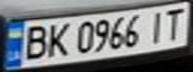0: (75, 18, 96, 55)
6: (121, 11, 148, 48), (109, 15, 130, 52)
9: (90, 16, 112, 53)
B: (18, 21, 51, 61)
I: (142, 7, 169, 43)
K: (42, 20, 72, 58)
T: (160, 4, 190, 40)
